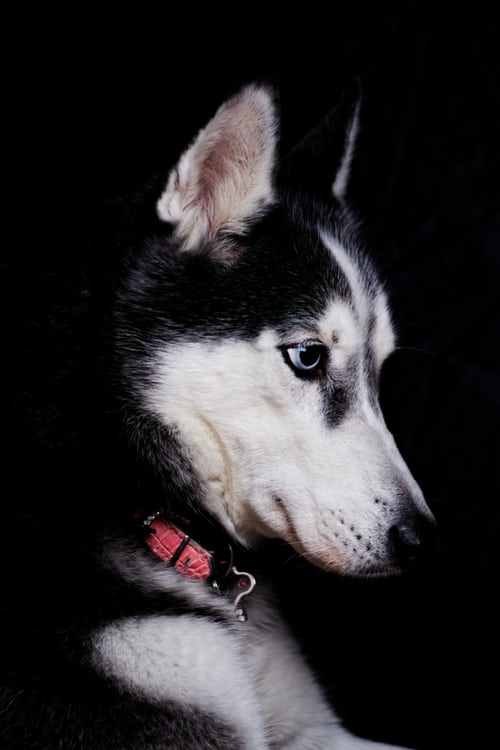husky: (51, 50, 443, 658)
